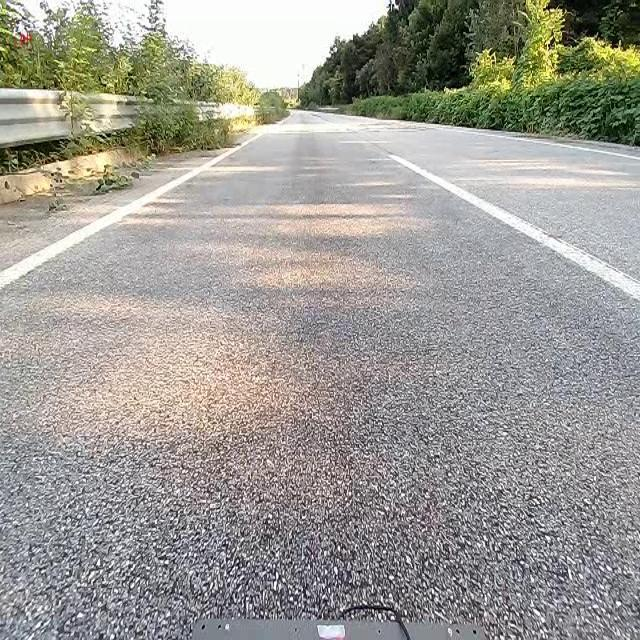Lane: (0, 128, 275, 305), (0, 131, 267, 291), (385, 148, 640, 308), (387, 154, 639, 301)
